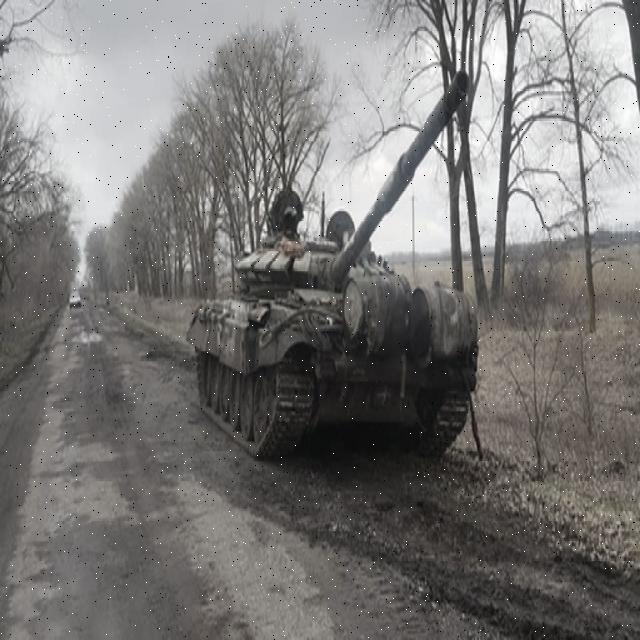CAR: (66, 284, 82, 308)
TANK: (181, 60, 490, 458)
